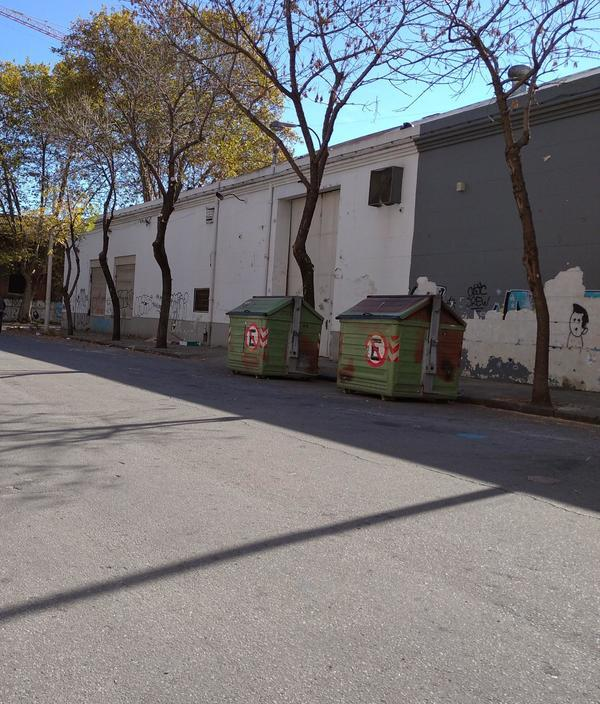Trash: (336, 291, 465, 406), (232, 292, 321, 384)
